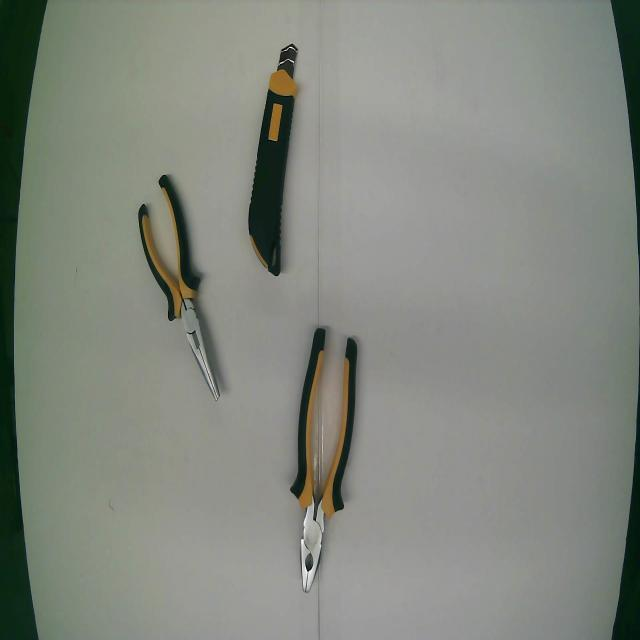estilete: (248, 44, 297, 275)
